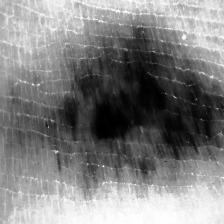Benign Marking or Mole: (51, 28, 224, 180)
